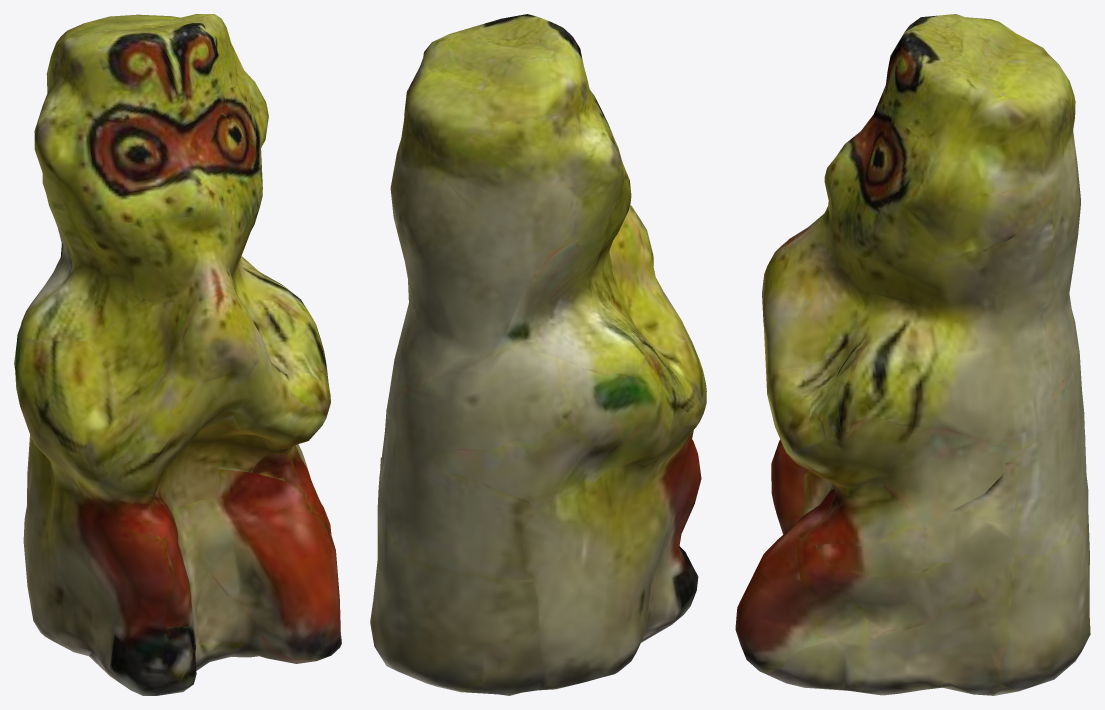
The model's file is hall.glb.
3 renders of one model, left to right at view 1: azimuth 30°, elevation 25°; view 2: azimuth 150°, elevation 25°; view 3: azimuth 270°, elevation 25°, orthographic. The views are drawn at different scales.
Bounding box in the file's own units: 0.2769 × 0.613 × 0.3208.
Materials: 1 (1 with a texture image).
